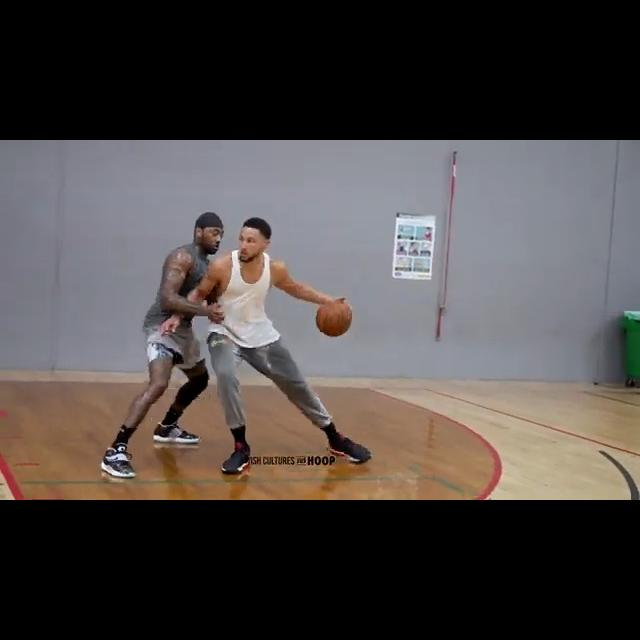basketball: (316, 299, 354, 337)
person: (157, 216, 371, 483), (100, 203, 226, 479)
